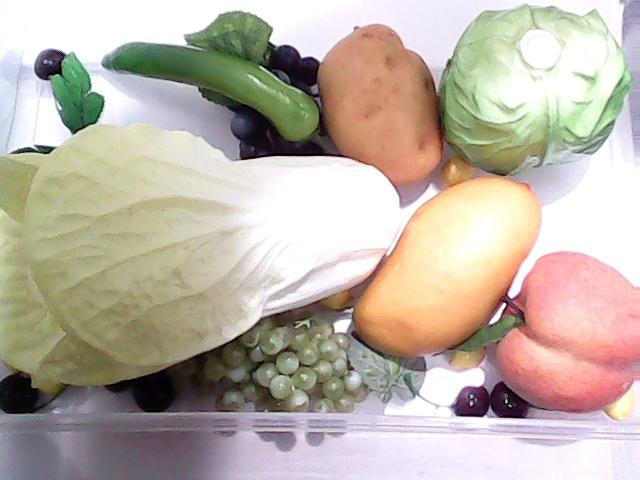cabbage: (433, 0, 631, 174)
grape: (182, 11, 326, 161), (176, 300, 360, 416)
mango: (350, 174, 542, 360)
napa cabbage: (0, 123, 402, 420)
peach: (494, 248, 640, 412)
pepper: (96, 26, 320, 148)
potato: (319, 24, 443, 184)
